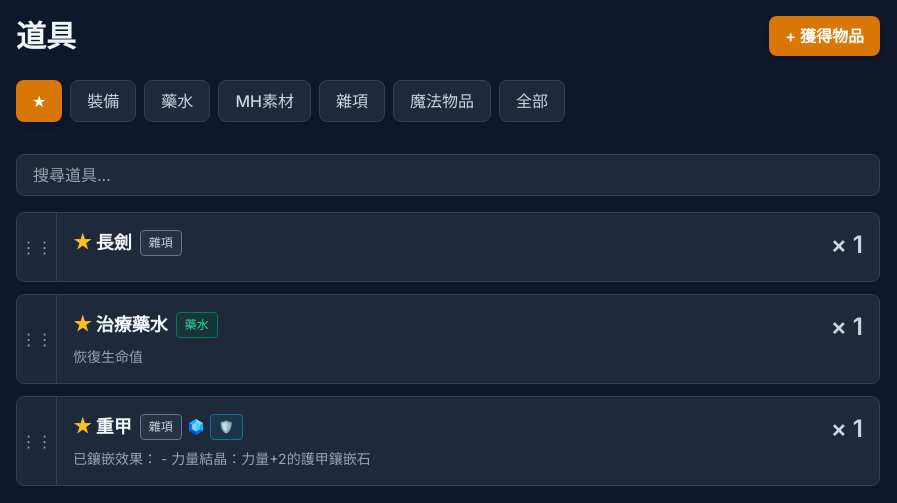
ItemsPage - 搜尋列 › 點清空按鈕後恢復目前類別下的全部道具
The width and height of the screenshot is (897, 503).
Check: the heading "★ 長劍" is shown, box [73,229,132,257]
In the field with placeholder "搜尋道具...": (448, 175) [16,154,880,196], type "長劍"
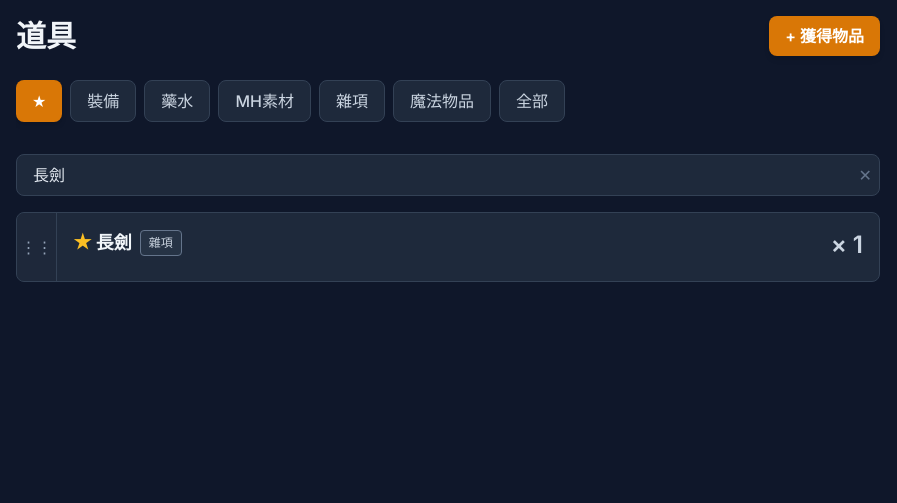
Check: the button "治療藥水" is gone
Click the button named "清空搜尋": (865, 175) [859,163,872,187]
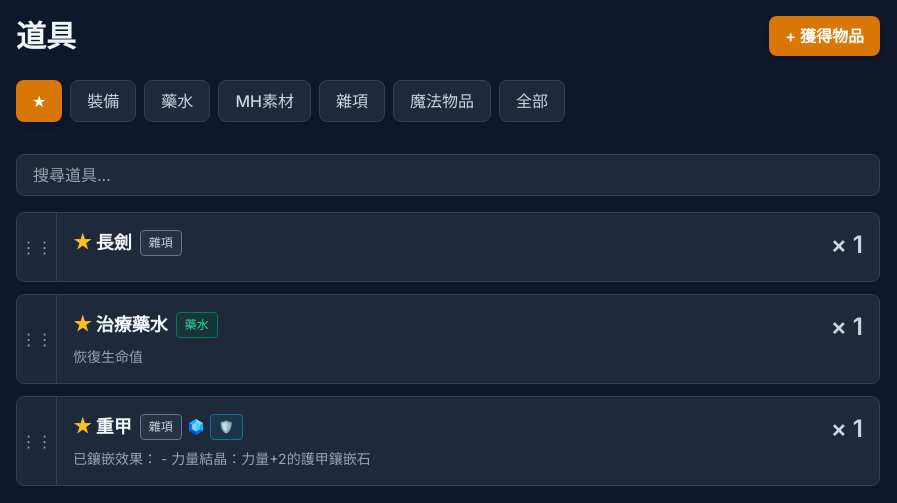
Check: the heading "★ 治療藥水" is shown, box [73,311,168,339]
